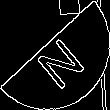N_NW: (25, 22, 85, 88)
